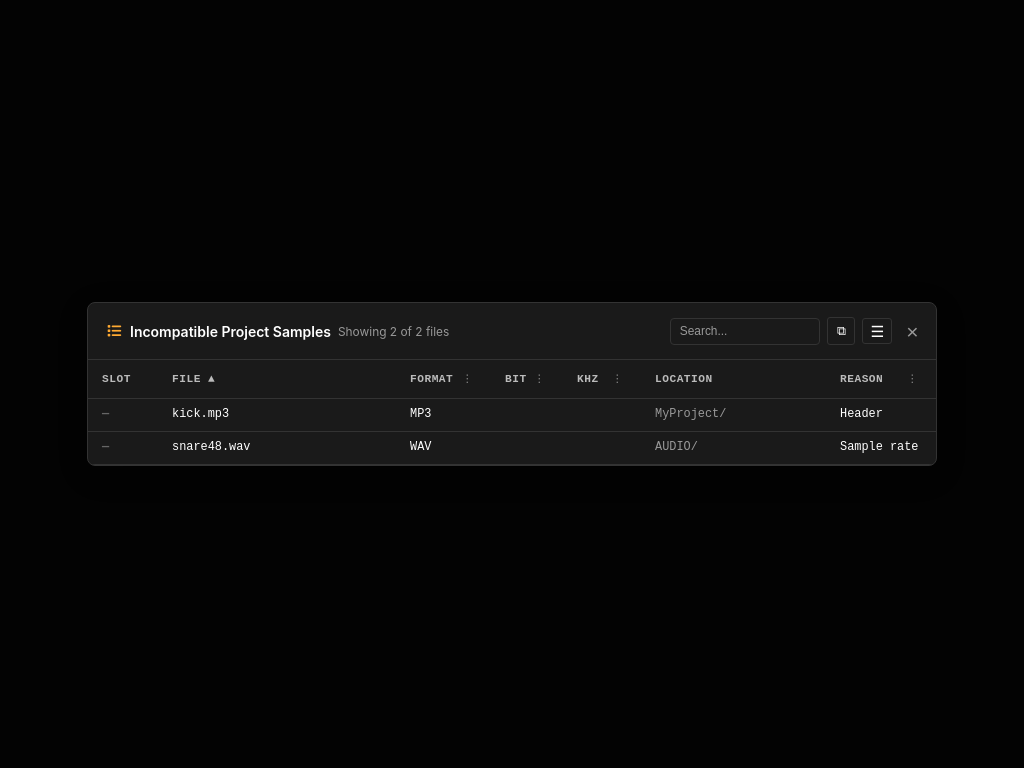
Test case: ProjectIncompatibleListModal › right-click offers Open in file explorer but never Go to project (this IS the current project)
Right-click the text "kick.mp3" at (512, 415), box [88,398,936,431]
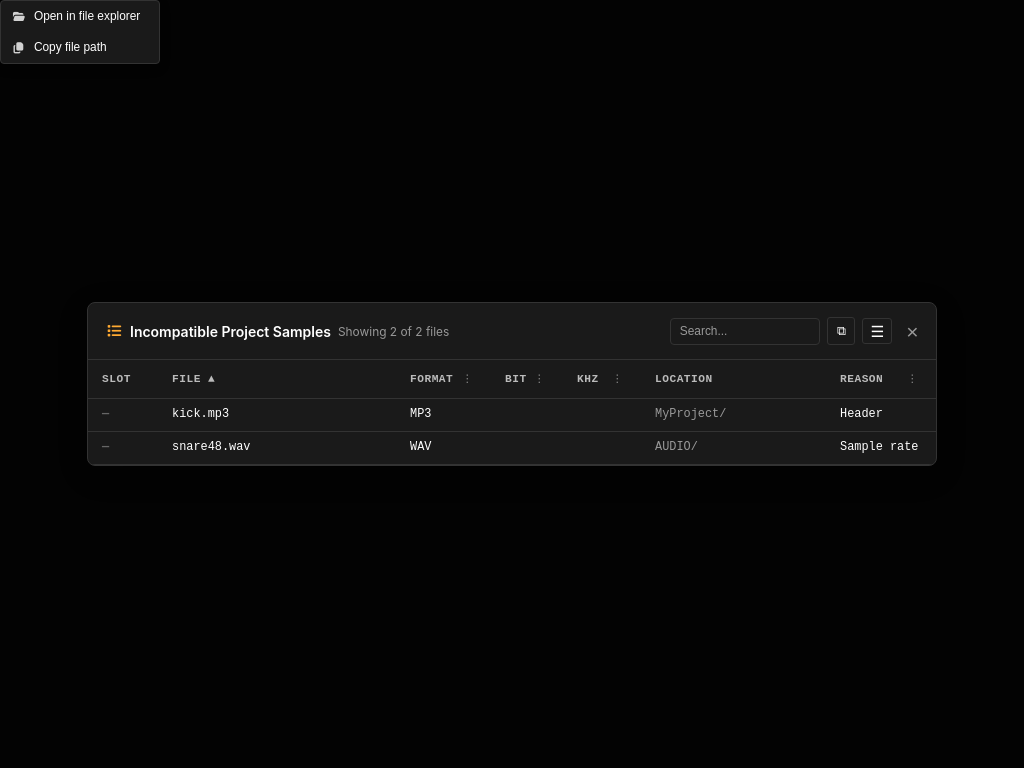
expect the button "Open in file explorer" is shown: met, box [1,1,159,32]
